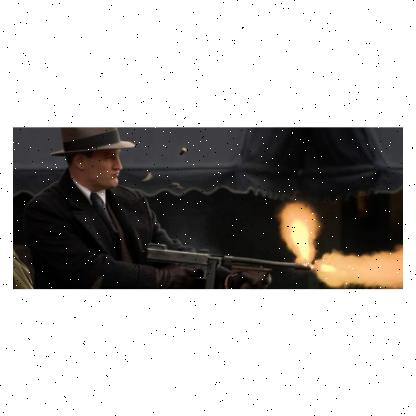gun: (127, 239, 316, 289)
